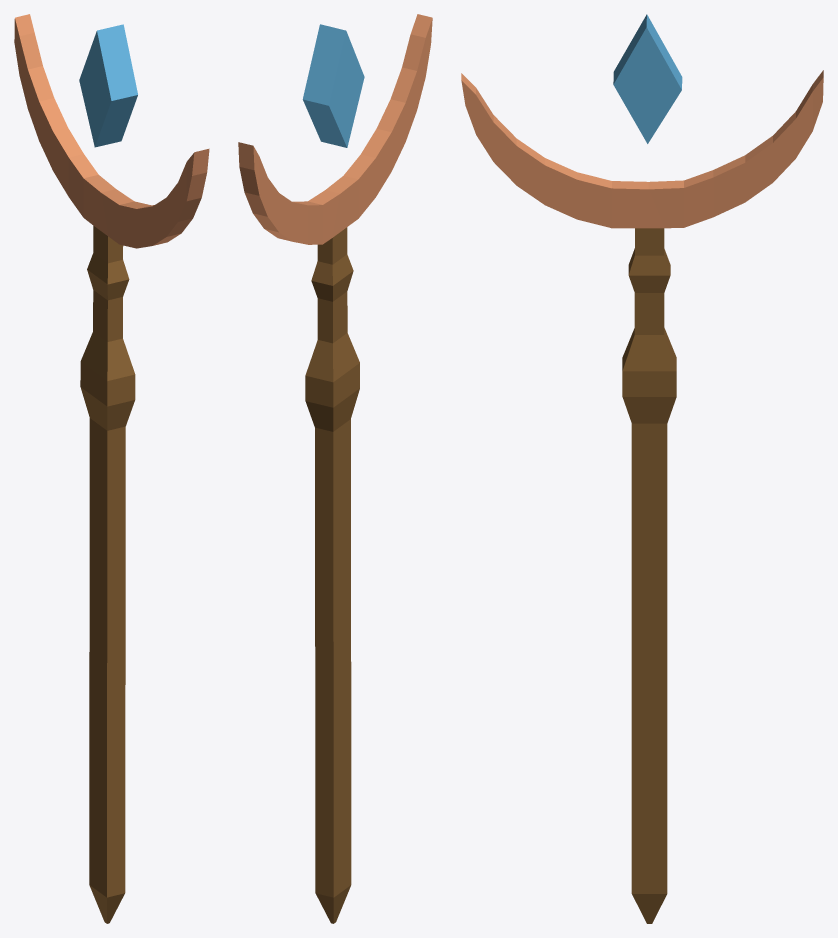
The model's file is MagnetStick.fbx.
The picture shows the model from 3 angles, left to right: view 1: azimuth 30°, elevation 25°; view 2: azimuth 150°, elevation 25°; view 3: azimuth 270°, elevation 25°; orthographic projection.
Visible parts, largest first — view 1: Plane.002; view 2: Plane.002; view 3: Plane.002.
Boxes of the visible parts, x1,y1,x2,y2 form: Plane.002: (14,14,209,923); Plane.002: (238,14,432,923); Plane.002: (461,14,823,923).
Bounding box in the file's own units: 0.033 × 0.9941 × 0.3612.
